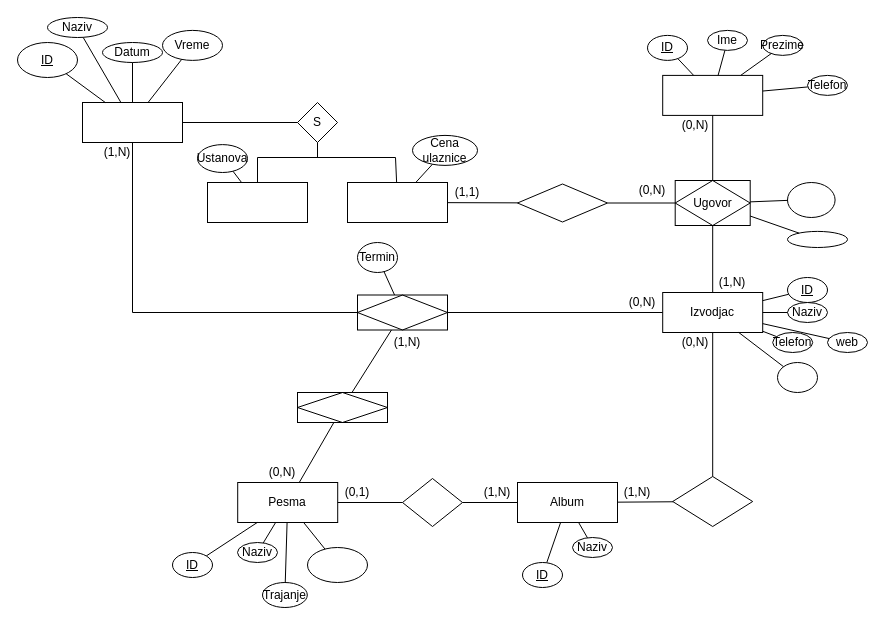
Some shapes in this 885 by 625 pixel diagram are drawn without their labels. The shapes that lost their labels are listed below. From the top down, each one's centre as x and y in pixels, then its label:
At (x=712, y=94): "Menadzer".
At (x=132, y=122): "Koncert".
At (x=257, y=202): "Humanitarni koncert".
At (x=397, y=202): "Komercijalni koncert".
At (x=562, y=202): "Ugovara".
At (x=810, y=200): "Br. ugovora".
At (x=817, y=239): "Procenat".
At (x=402, y=312): "Svira na".
At (x=797, y=377): "Mail".
At (x=342, y=407): "Izvodi pesmu".
At (x=432, y=502): "Sadrzi".
At (x=712, y=501): "Snimio".
At (x=337, y=564): "Rdedni br.".
